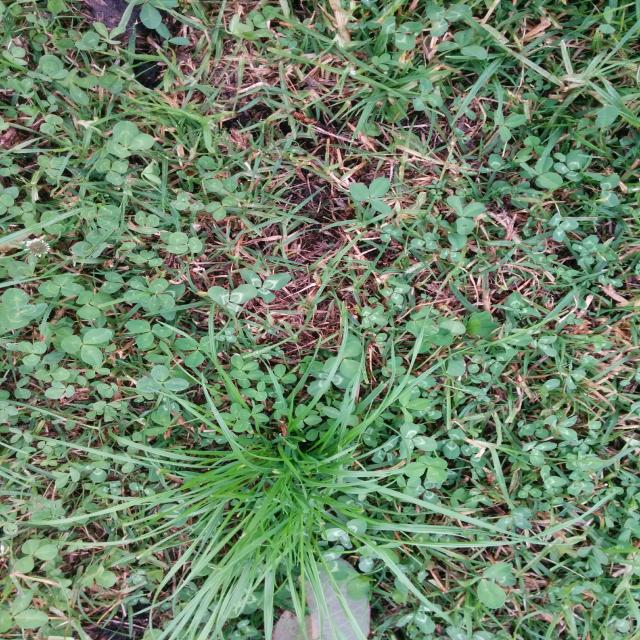Four Leaf Clover: (405, 455, 447, 483)
